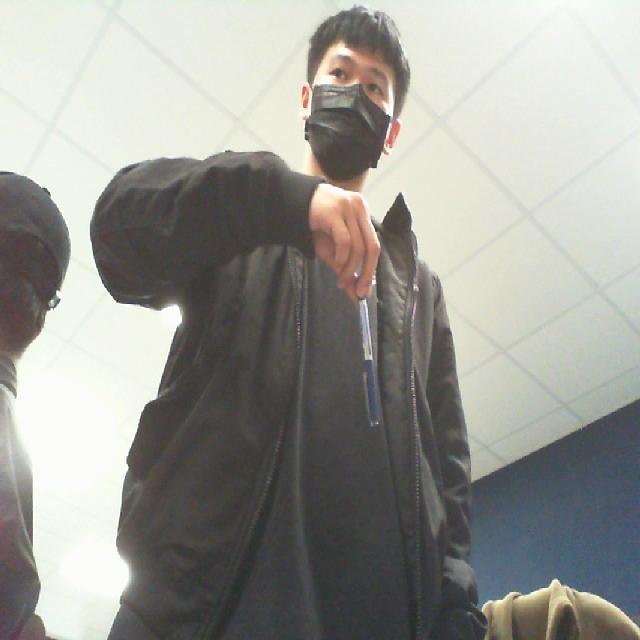Pen: (341, 251, 390, 451)
